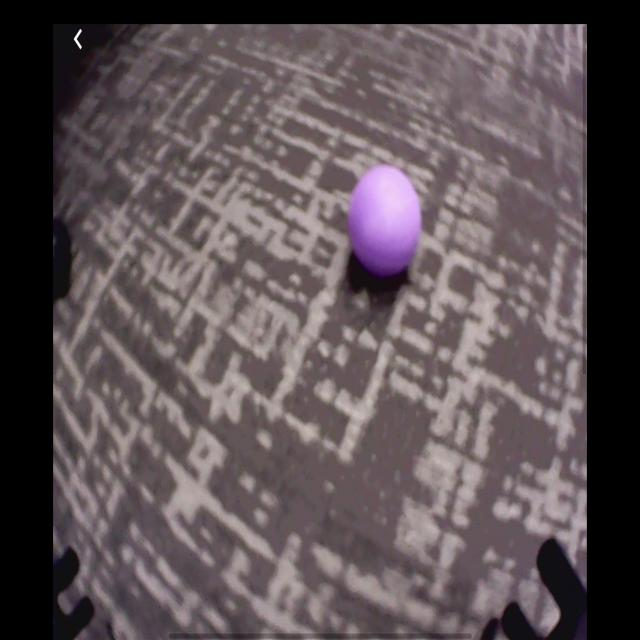ball: (349, 163, 423, 281)
